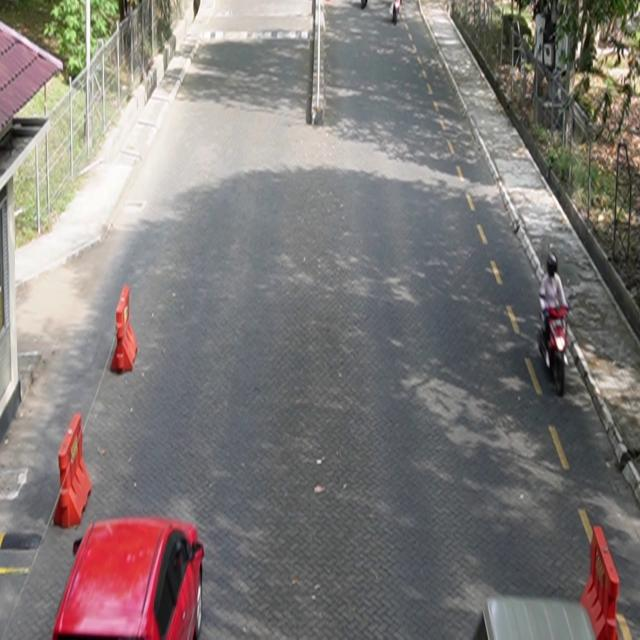car: (53, 517, 205, 640)
